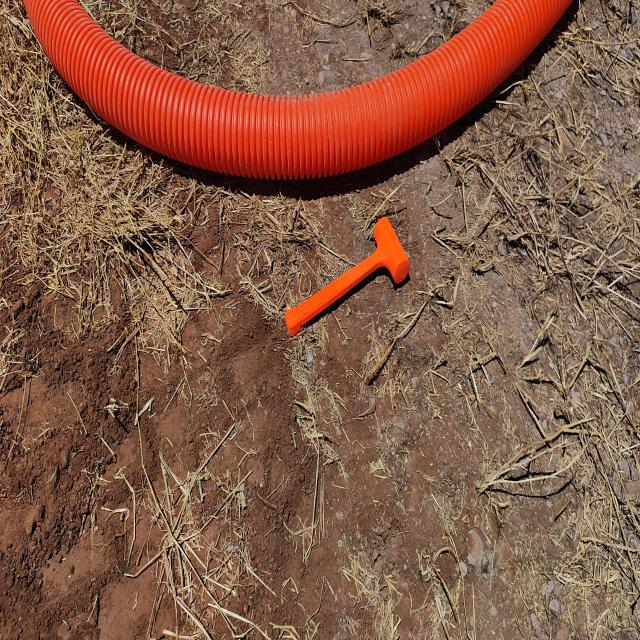Orange_hammer: (284, 215, 410, 338)
